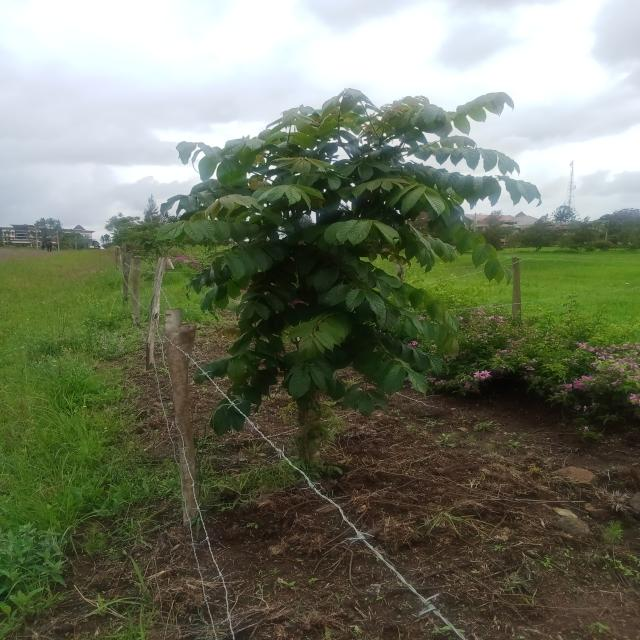Polyscias Kikuyensis: (161, 78, 549, 462)
